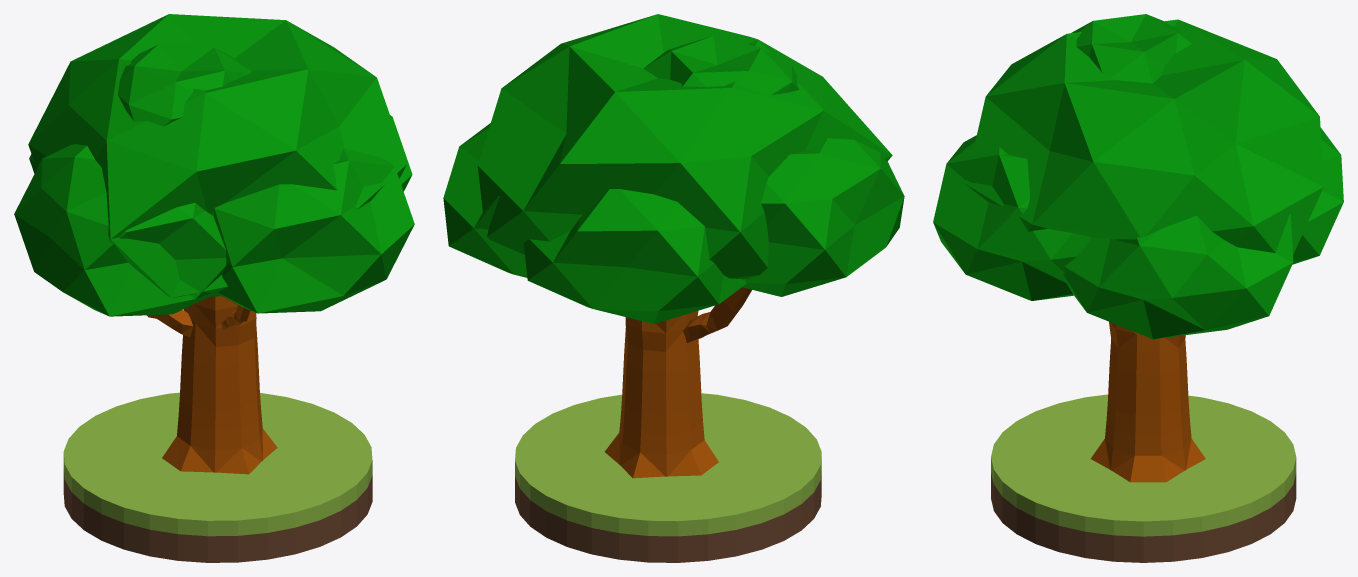
The picture shows the model from 3 angles, left to right: view 1: azimuth 30°, elevation 25°; view 2: azimuth 150°, elevation 25°; view 3: azimuth 270°, elevation 25°; orthographic projection.
Visible parts, largest first — view 1: Icosphere, Cylinder_005, Icosphere_003, Icosphere_002, Cylinder_004, Icosphere_005, Cylinder_001; view 2: Icosphere, Cylinder_005, Icosphere_004, Icosphere_002, Cylinder_004, Icosphere_005, Icosphere_001, Cylinder_001; view 3: Icosphere, Cylinder_005, Icosphere_001, Icosphere_003, Cylinder_004, Icosphere_005, Icosphere_004.
Boxes of the visible parts, x1,y1,x2,y2 form: Icosphere: (28, 14, 406, 297); Cylinder_005: (63, 392, 372, 562); Icosphere_003: (213, 148, 414, 313); Icosphere_002: (14, 144, 226, 316); Cylinder_004: (162, 296, 277, 474); Icosphere_005: (117, 44, 251, 126); Cylinder_001: (147, 310, 193, 337); Icosphere: (477, 14, 892, 279); Cylinder_005: (515, 393, 821, 562); Icosphere_004: (523, 189, 746, 323); Icosphere_002: (742, 138, 904, 296); Cylinder_004: (604, 311, 718, 478); Icosphere_005: (643, 35, 799, 94); Icosphere_001: (443, 123, 527, 277); Cylinder_001: (683, 287, 751, 342); Icosphere: (965, 19, 1323, 254); Cylinder_005: (991, 394, 1296, 562); Icosphere_001: (1063, 214, 1293, 339); Icosphere_003: (933, 135, 1091, 300); Cylinder_004: (1090, 322, 1205, 482); Icosphere_005: (1071, 14, 1191, 83); Icosphere_004: (1292, 128, 1343, 264).
Size of the model in its own units: 2.85 by 2.69 by 3.22.
